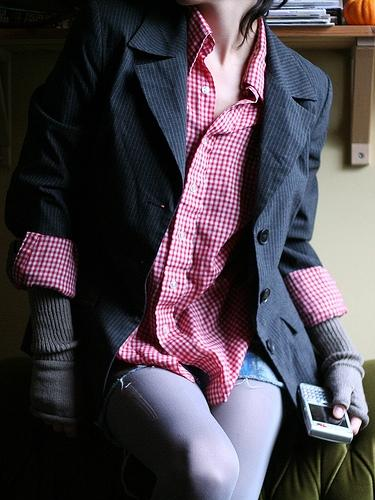pumpkin: (342, 0, 375, 26)
